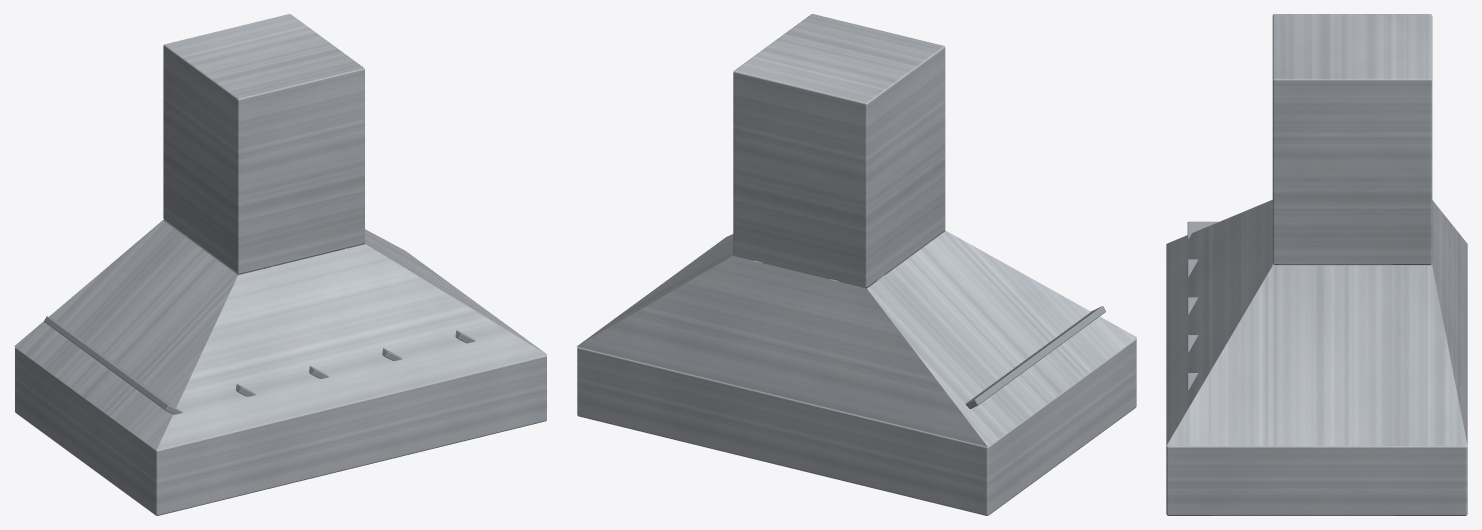
The model's file is ExhaustHood.glb.
3 renders of one model, left to right at view 1: azimuth 30°, elevation 25°; view 2: azimuth 150°, elevation 25°; view 3: azimuth 270°, elevation 25°, orthographic. The views are drawn at different scales.
Visible parts, largest first — view 1: ExhaustHood_Body; view 2: ExhaustHood_Body; view 3: ExhaustHood_Body.
Part boxes in pixels (box(x1,y1,x2,y2)): ExhaustHood_Body: box(14, 14, 547, 515); ExhaustHood_Body: box(577, 14, 1136, 515); ExhaustHood_Body: box(1166, 14, 1467, 515).
Size of the model in its own units: 1.35 by 1.15 by 0.85.
3 materials, 1 textured.
